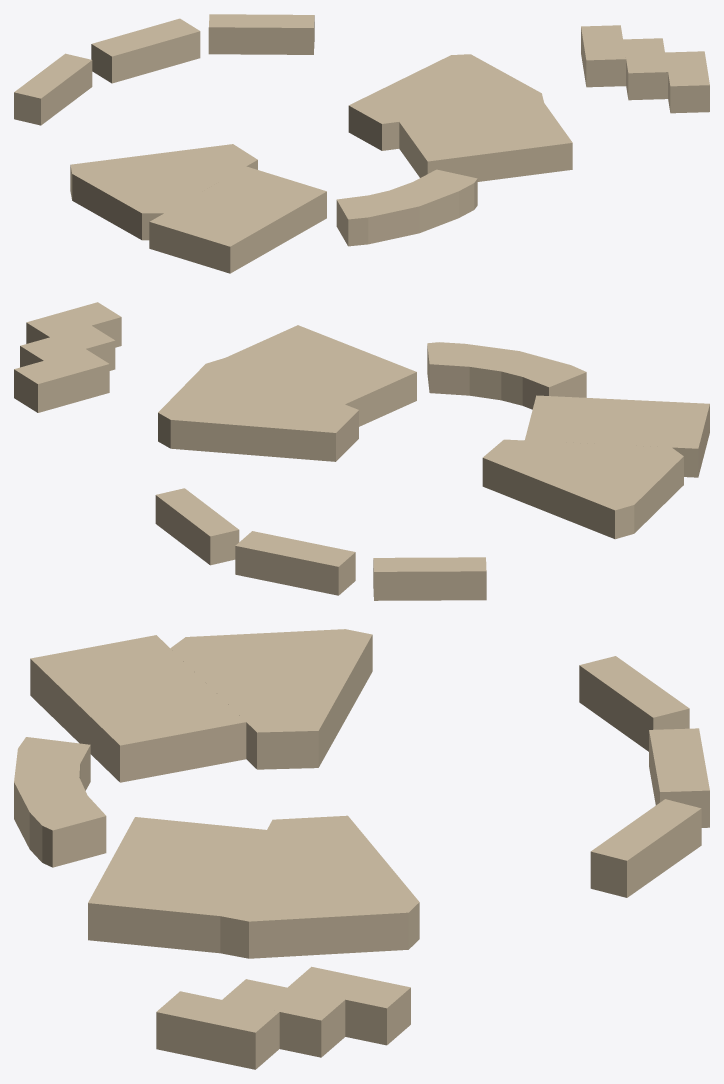
The model's file is -12_19-estimated-coarse.glb.
The picture shows the model from 3 angles, top to bottom: view 1: azimuth 30°, elevation 25°; view 2: azimuth 150°, elevation 25°; view 3: azimuth 270°, elevation 25°; orthographic projection. The views are drawn at different scales.
Size of the model in its own units: 279 by 12 by 204.
